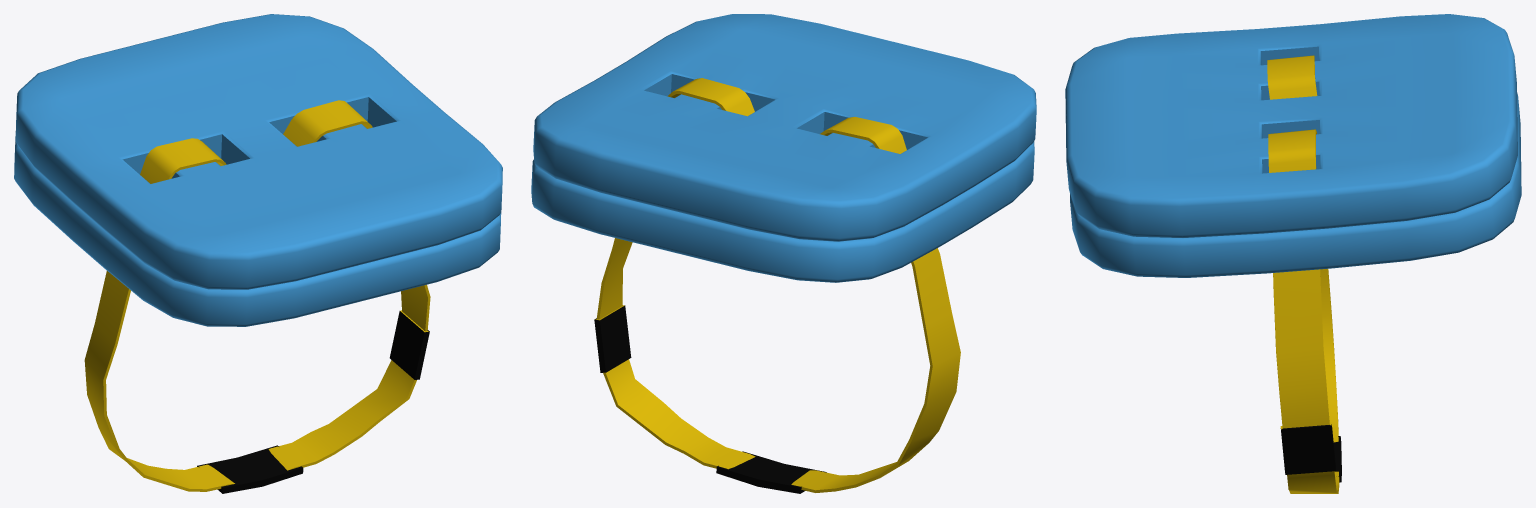
Rendered from BackFloat.fbx.
3 views of the same model, side by side, from view 1: azimuth 30°, elevation 25°; view 2: azimuth 150°, elevation 25°; view 3: azimuth 270°, elevation 25° (orthographic). The views are drawn at different scales.
Visible parts, largest first — view 1: BackFloat; view 2: BackFloat; view 3: BackFloat.
Part boxes in pixels (<box>): BackFloat: <box>14,14,502,493</box>; BackFloat: <box>531,14,1036,493</box>; BackFloat: <box>1065,14,1521,493</box>.
Size of the model in its own units: 23.24 by 23.94 by 25.89.
